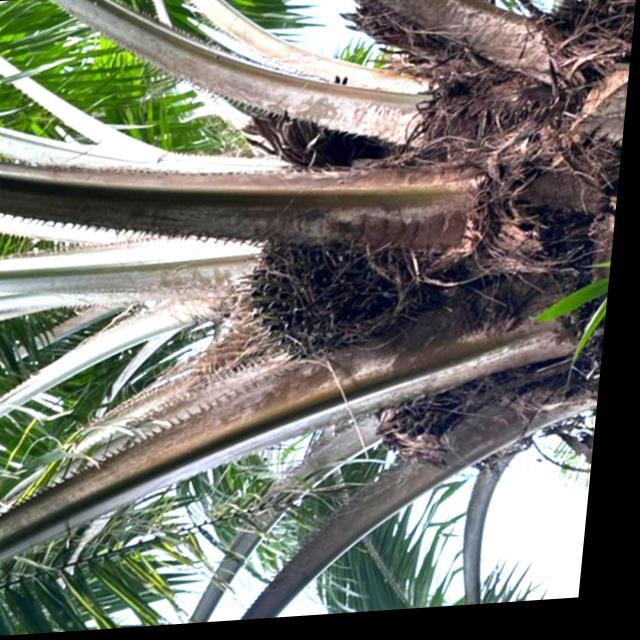unripe: (232, 218, 450, 381)
